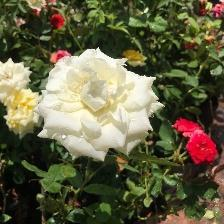rose: (34, 47, 166, 166)
